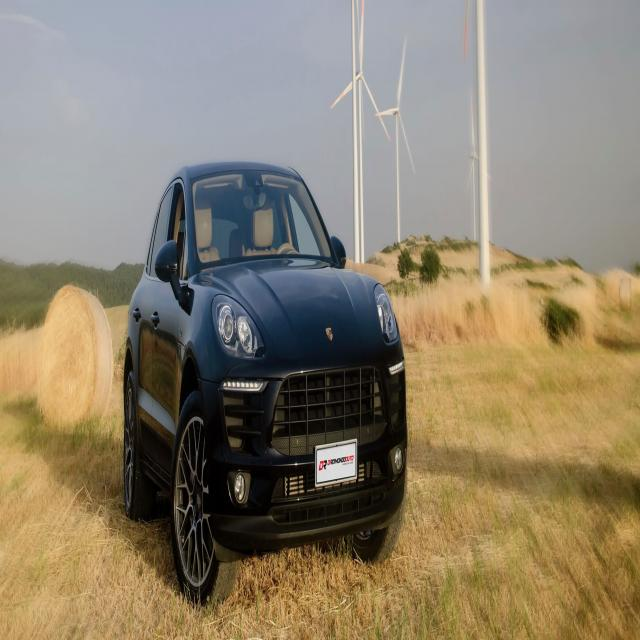yolov7-seg-car: (123, 158, 408, 610)
